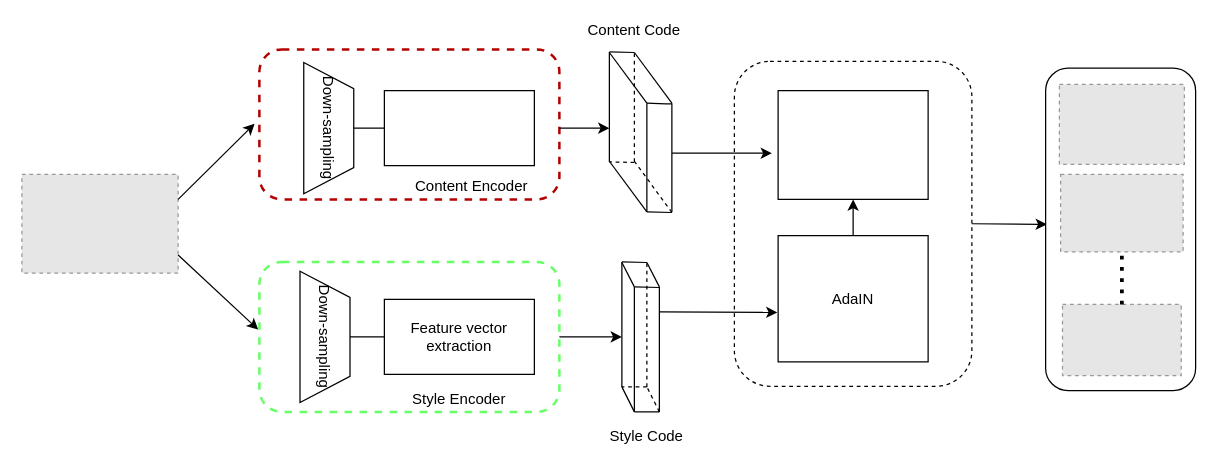
This 1218x470 diagram has some shape labels left out. Grey dashed boxes stand in for pictures. The shapes that lost their labels are listed below. From the top down, each one's centre as x and y in pixels, then its label:
(x=458, y=127): Semantic feature extraction
(x=852, y=144): Semantic feature reconstruction
